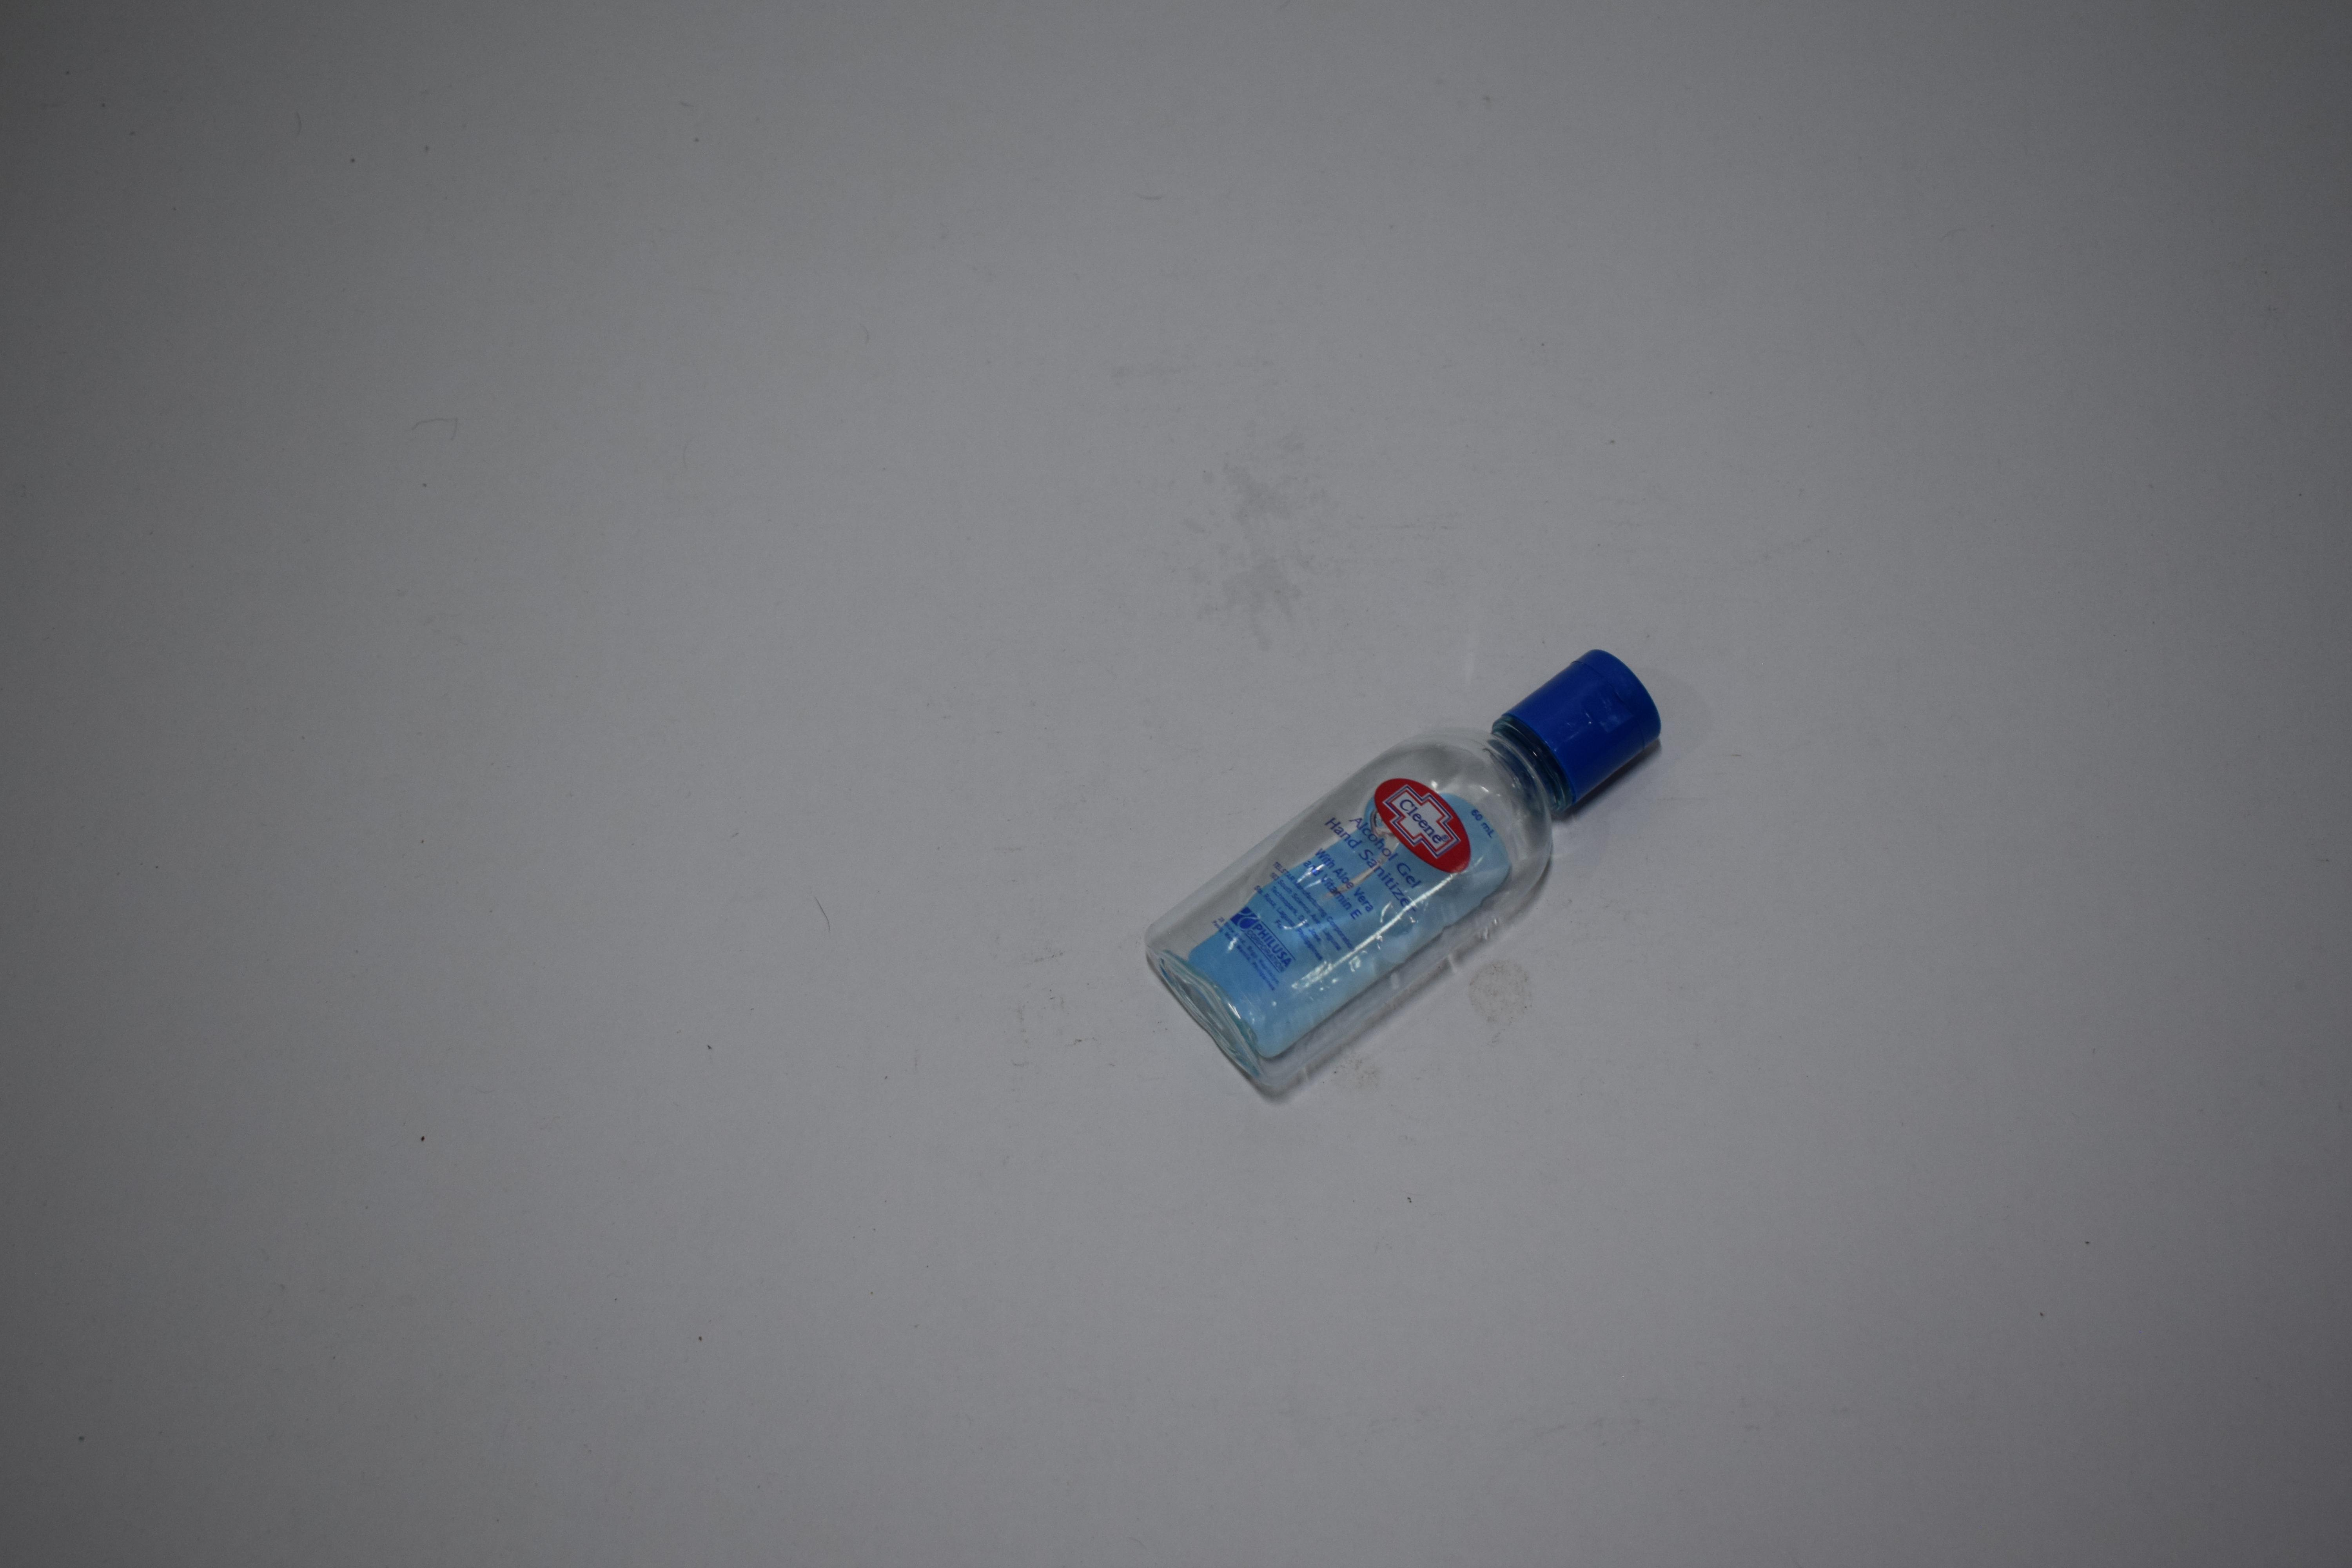bottle: (0, 0, 483, 243)
